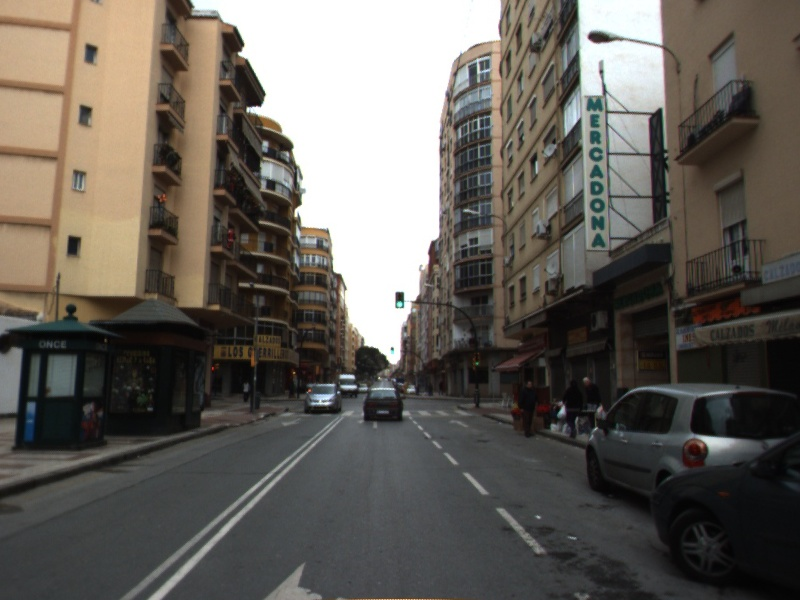LEFT: (356, 418, 379, 430)
STRAIGHT: (447, 418, 470, 428)
